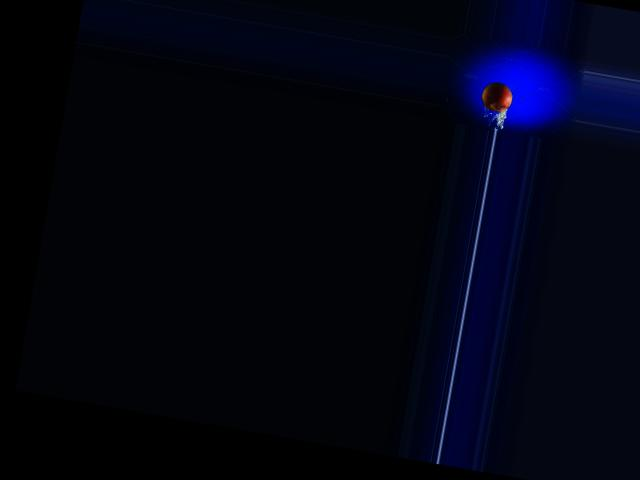tomato: (478, 80, 514, 113)
